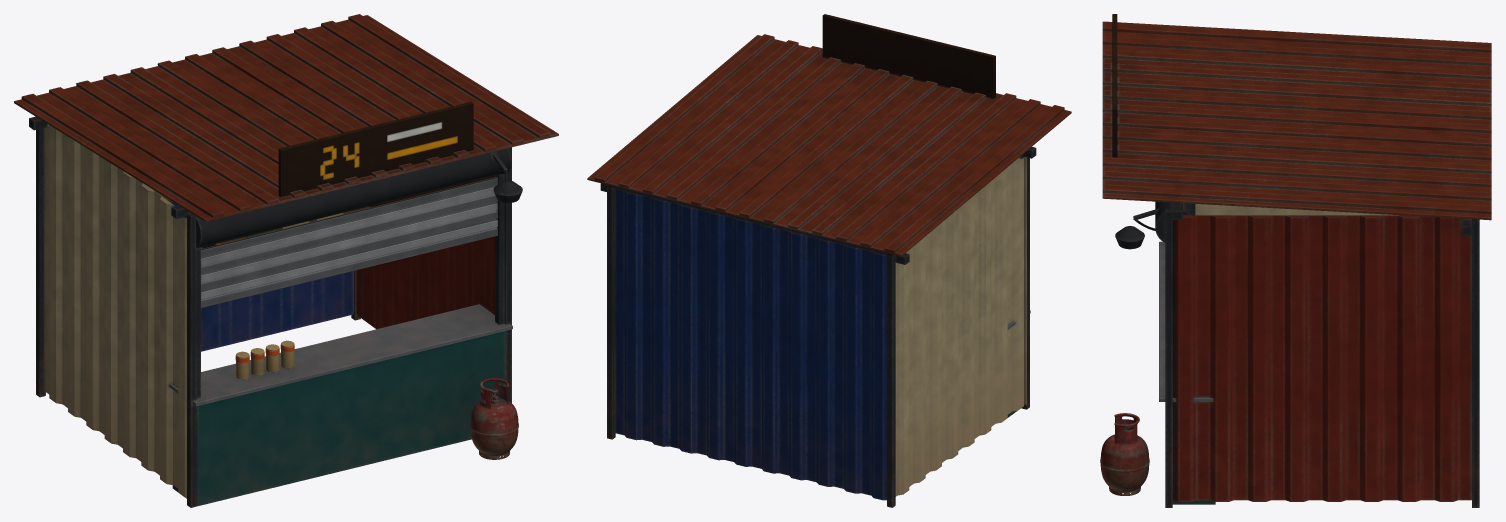
Rendered from quiet_book_shack.glb.
3 renders of one model, left to right at view 1: azimuth 30°, elevation 25°; view 2: azimuth 150°, elevation 25°; view 3: azimuth 270°, elevation 25°, orthographic. The views are drawn at different scales.
Parts seen in each view (by area): view 1: quiet_book_shack; view 2: quiet_book_shack; view 3: quiet_book_shack.
Boxes of the visible parts, x1,y1,x2,y2 form: quiet_book_shack: (14,14,558,507); quiet_book_shack: (587,14,1071,507); quiet_book_shack: (1100,14,1491,507).
Bounding box in the file's own units: 3.3 × 3.22 × 3.12.
Materials: 2 (2 with a texture image).
